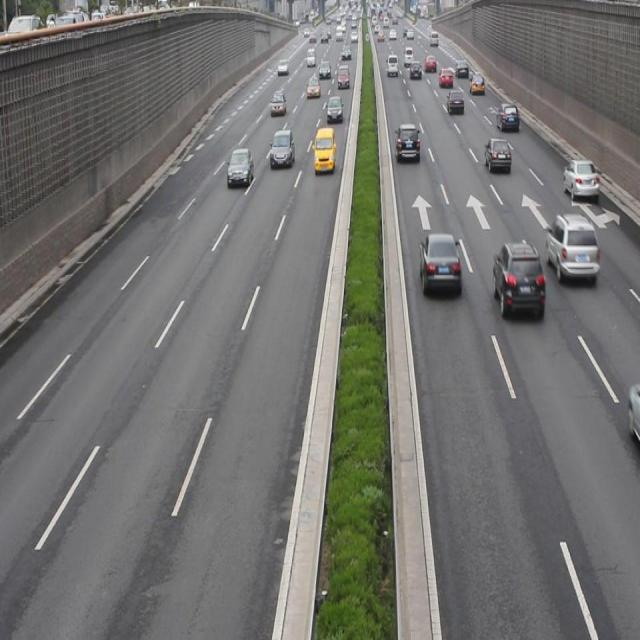car: (492, 242, 545, 321), (544, 213, 598, 281), (419, 231, 460, 296), (561, 156, 598, 201), (227, 146, 253, 188), (484, 135, 511, 174), (269, 129, 294, 171), (395, 123, 420, 164), (496, 101, 518, 134)
truck: (312, 126, 335, 175)
